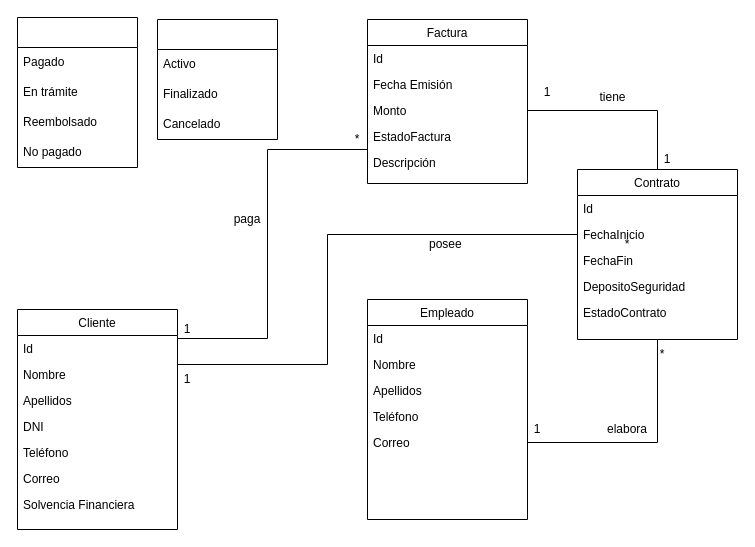
Some shapes in this 755 by 547 pixel diagram are drawn without their labels. The box of each missing label's shape, as (x1, y1, x2, y2) in pixels:
<<enum>> EstadoContrato: (156, 18, 278, 140)
<<enum>> EstadoFactura: (16, 16, 138, 168)
